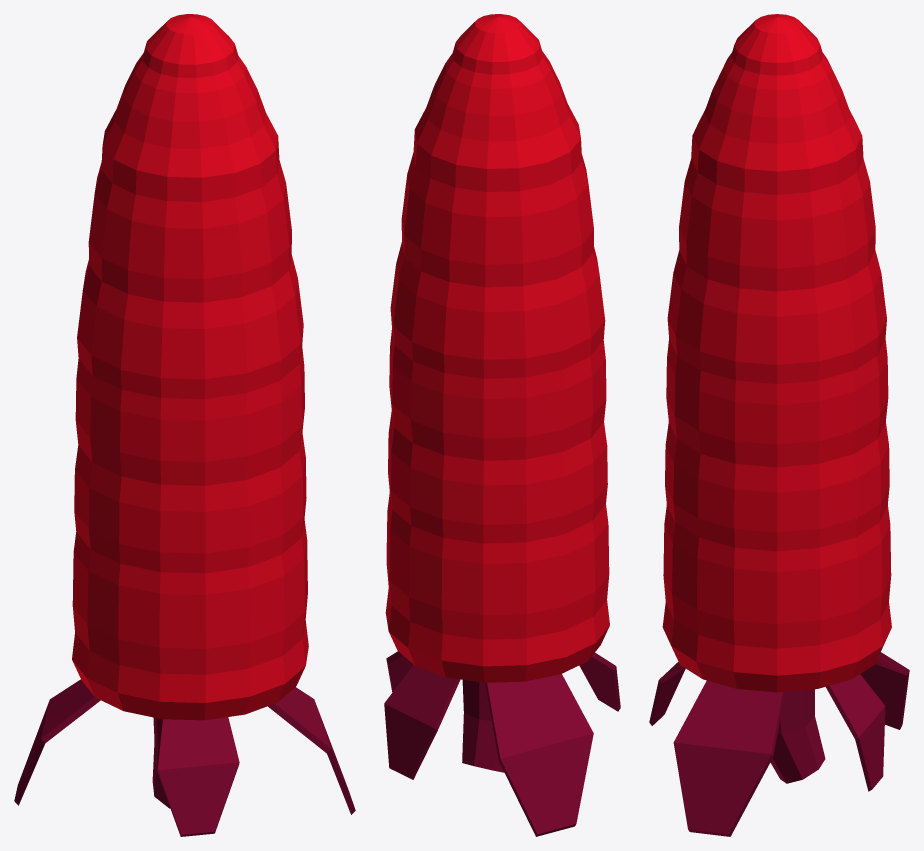
Rendered from CornOnTheCob_01.fbx.
The picture shows the model from 3 angles, left to right: view 1: azimuth 30°, elevation 25°; view 2: azimuth 150°, elevation 25°; view 3: azimuth 270°, elevation 25°; orthographic projection. The views are drawn at different scales.
Parts seen in each view (by area): view 1: CornOnTheCob_01; view 2: CornOnTheCob_01; view 3: CornOnTheCob_01.
Part boxes in pixels (x1,y1,x2,y2): CornOnTheCob_01: (14,14,355,836); CornOnTheCob_01: (384,14,620,836); CornOnTheCob_01: (649,14,909,836).
Bounding box in the file's own units: 2.96 × 8.55 × 2.65.
